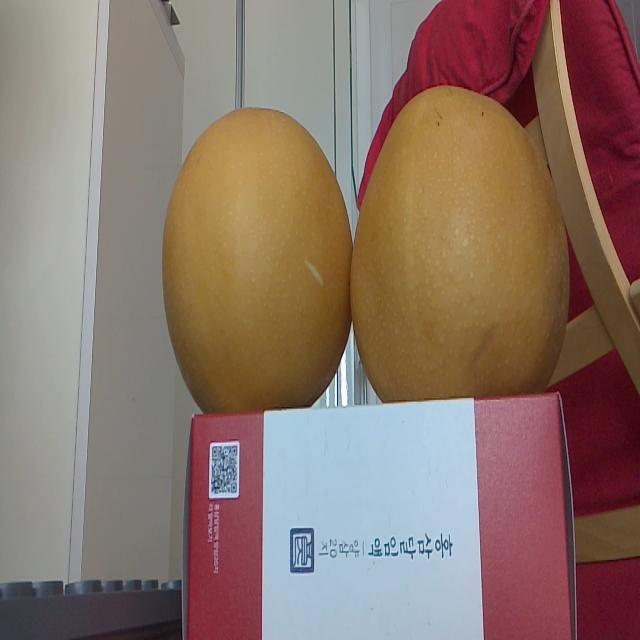pear: (353, 85, 567, 398), (159, 108, 351, 416)
